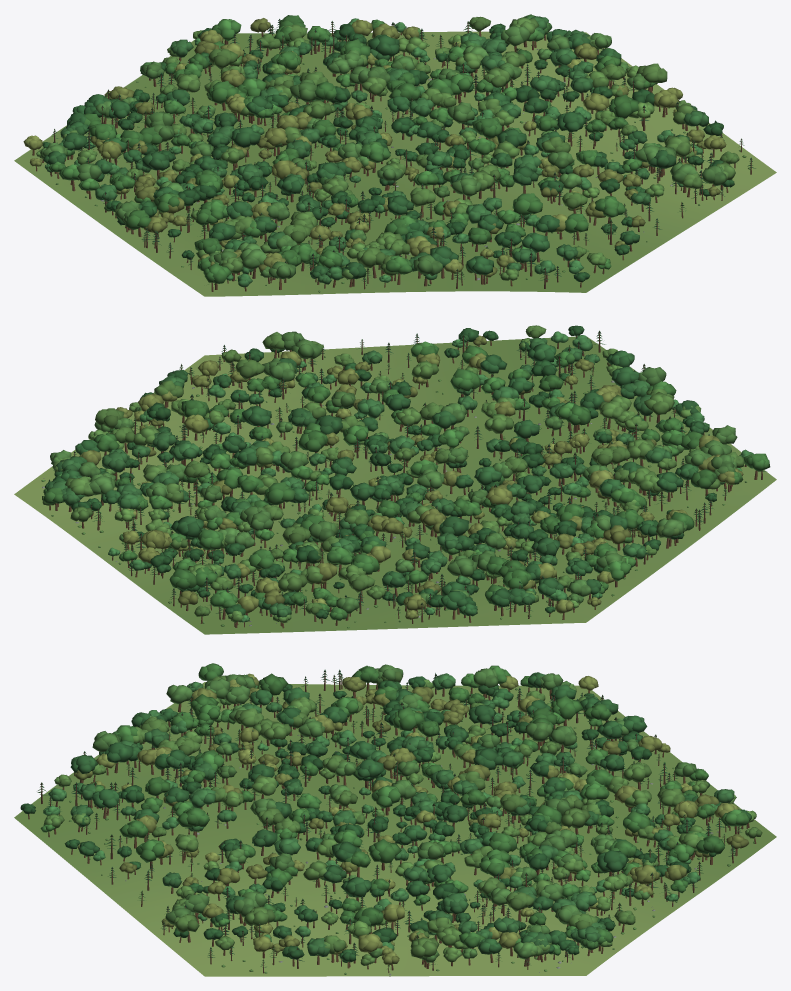
3 renders of one model, top to bottom at view 1: azimuth 30°, elevation 25°; view 2: azimuth 150°, elevation 25°; view 3: azimuth 270°, elevation 25°, orthographic.
Visible parts, largest first — view 1: broadleaf_canopy, terrain, trunks, conifer_canopy; view 2: broadleaf_canopy, terrain, trunks, conifer_canopy, shrubs; view 3: broadleaf_canopy, terrain, trunks, conifer_canopy.
Part boxes in pixels (x1=…): broadleaf_canopy: x1=23, y1=14, x2=739, y2=287; terrain: x1=14, y1=31, x2=776, y2=296; trunks: x1=32, y1=20, x2=751, y2=291; conifer_canopy: x1=52, y1=19, x2=755, y2=284; broadleaf_canopy: x1=42, y1=325, x2=770, y2=623; terrain: x1=14, y1=336, x2=776, y2=634; trunks: x1=49, y1=332, x2=762, y2=628; conifer_canopy: x1=49, y1=330, x2=766, y2=614; shrubs: x1=41, y1=356, x2=746, y2=628; broadleaf_canopy: x1=20, y1=663, x2=762, y2=965; terrain: x1=14, y1=682, x2=776, y2=976; trunks: x1=28, y1=671, x2=756, y2=973; conifer_canopy: x1=37, y1=669, x2=741, y2=969.
Bounding box in the file's own units: 4330 × 366 × 5000.
